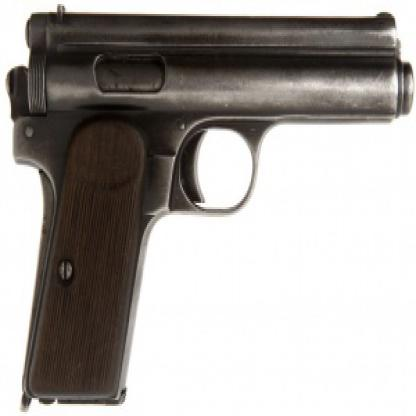Guns: (1, 0, 414, 414)
